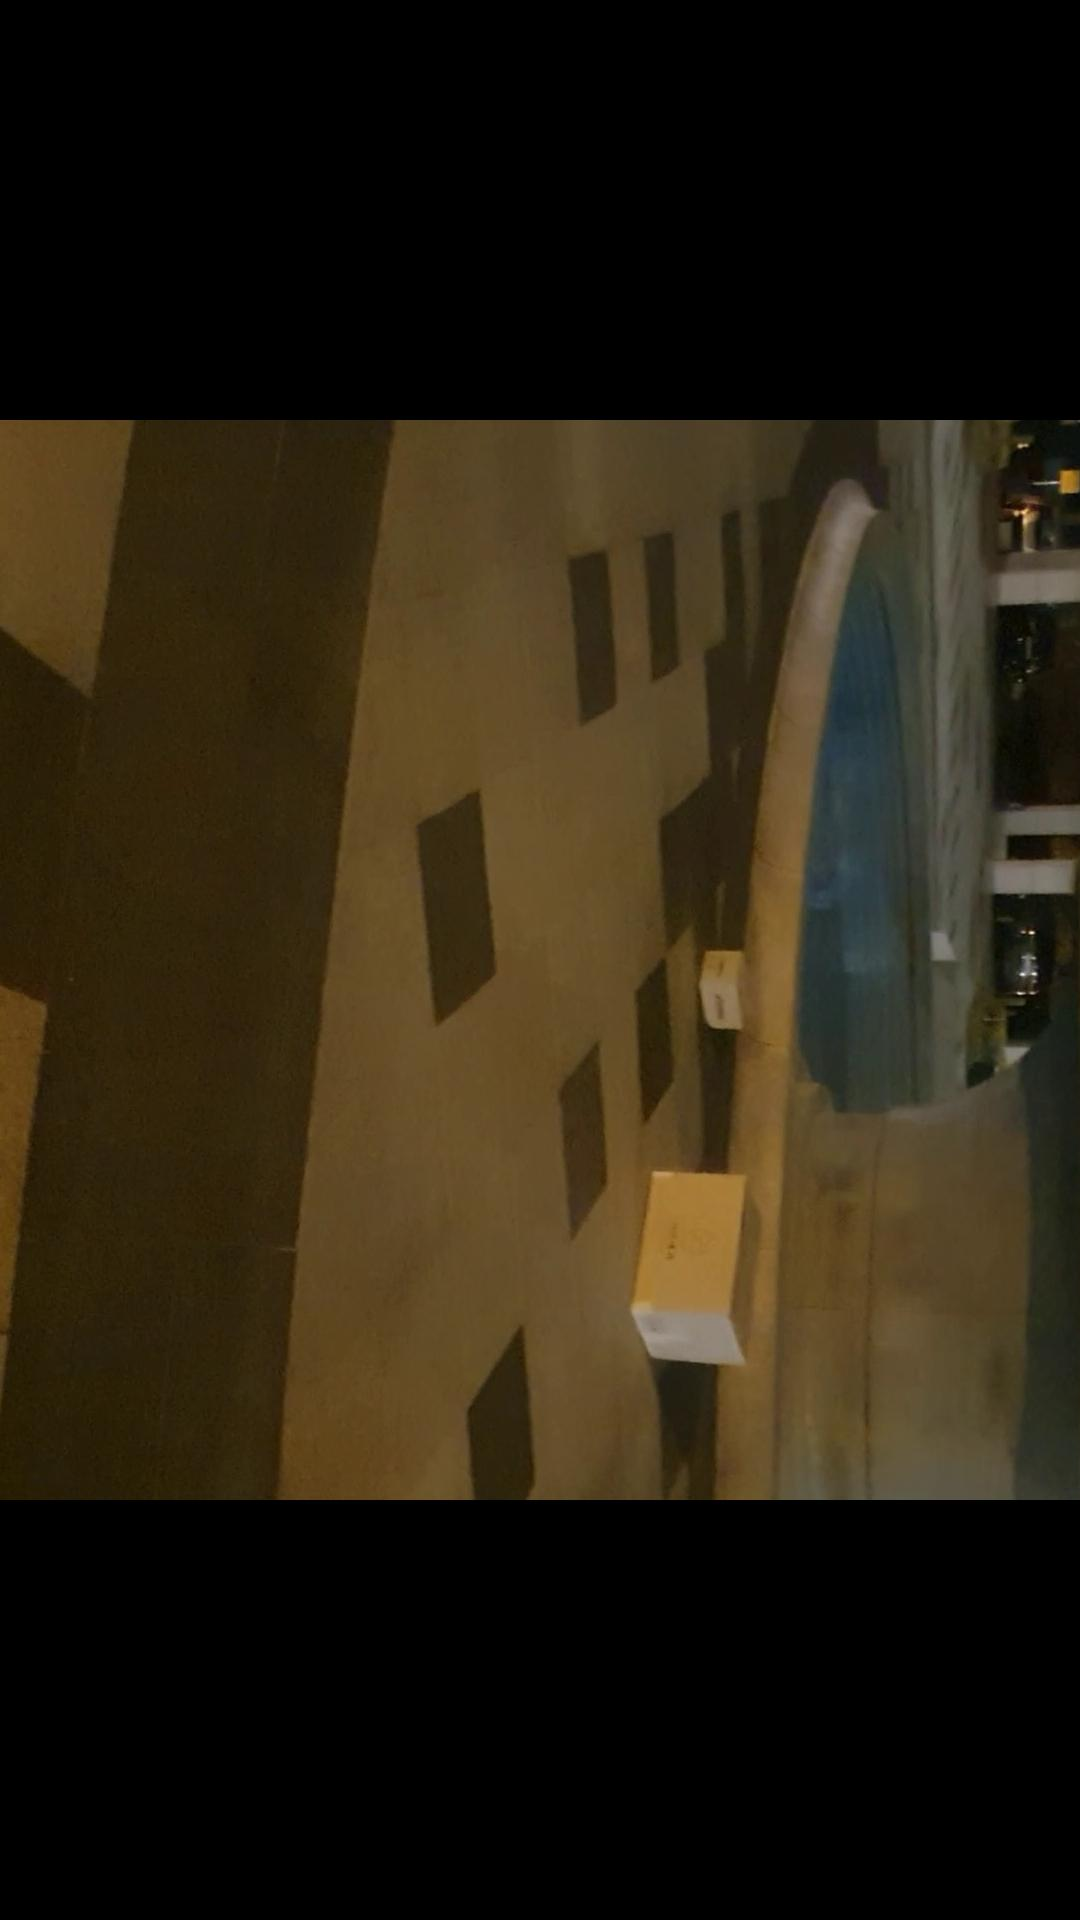Box: (625, 1153, 770, 1364), (695, 942, 765, 1038)
